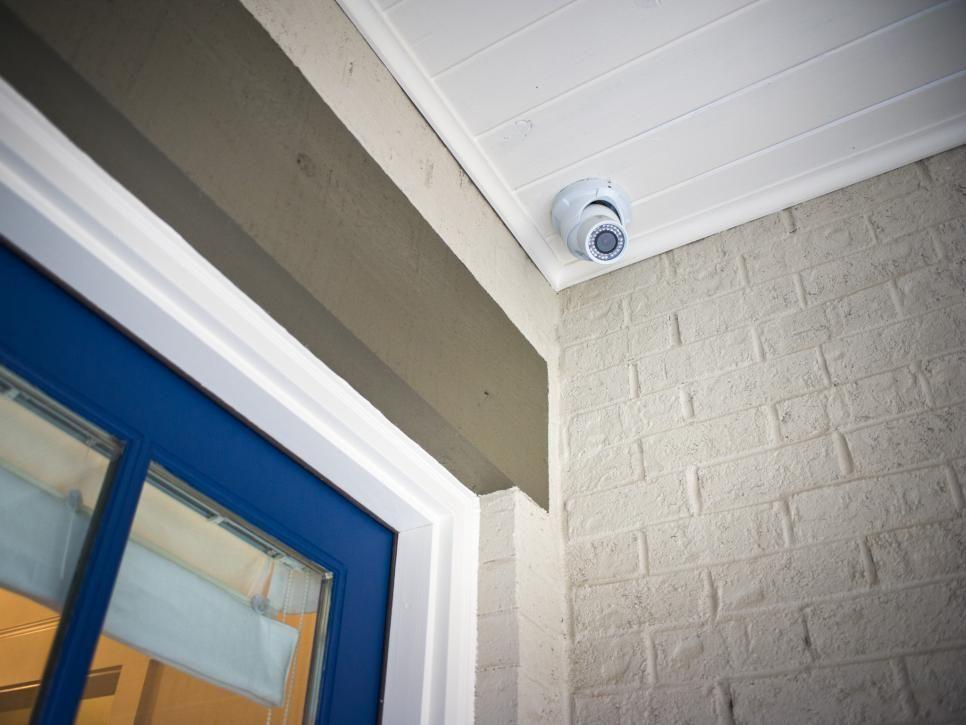Security camera: (549, 175, 632, 265)
